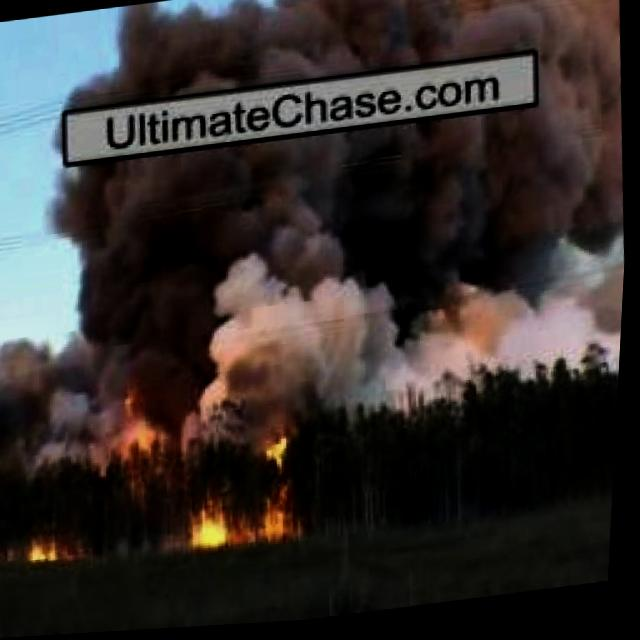Fire: (189, 440, 315, 559), (122, 372, 177, 466), (32, 539, 73, 565)
Smoke: (0, 108, 634, 463), (53, 0, 624, 116)
